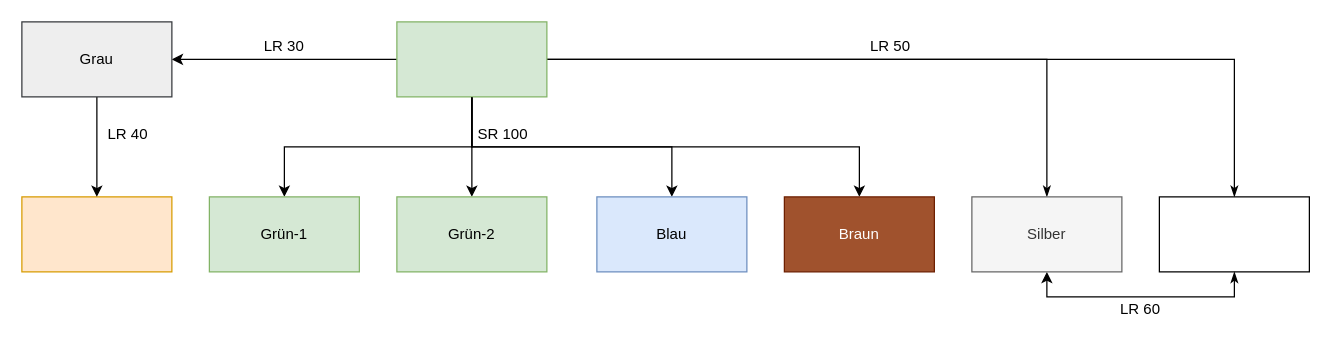
Image size: 1331x344. Some labels were removed from this diagram. The box of each missing label's shape, as (x1, y1, x2, y2) in pixels:
Bronze: (21, 196, 172, 272)
Grün: (396, 21, 547, 97)
Weiß: (1158, 196, 1309, 272)
